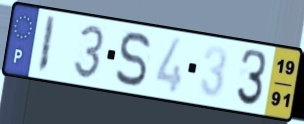3: (70, 24, 108, 81), (235, 48, 269, 109), (199, 44, 231, 101)
4: (153, 36, 185, 97)
I: (35, 14, 58, 77)
S: (113, 30, 152, 90)
